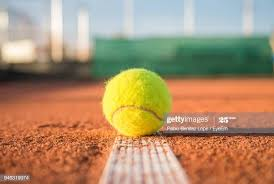tennis_ball: (102, 68, 173, 137)
